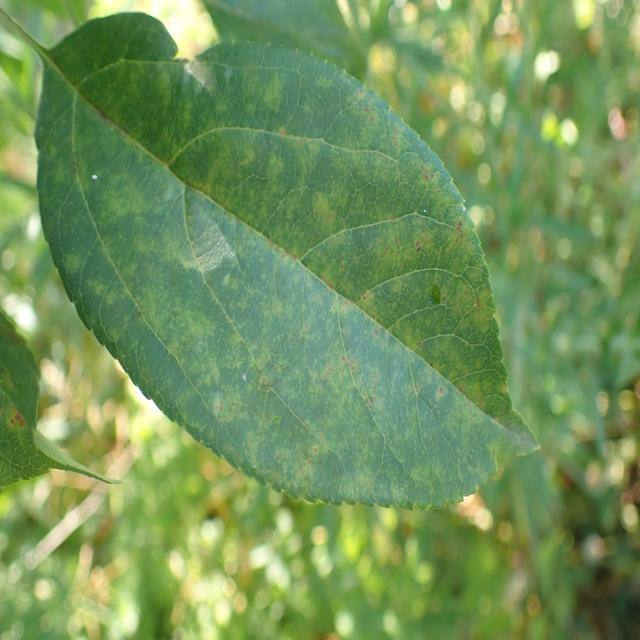scab: (38, 48, 520, 507)
